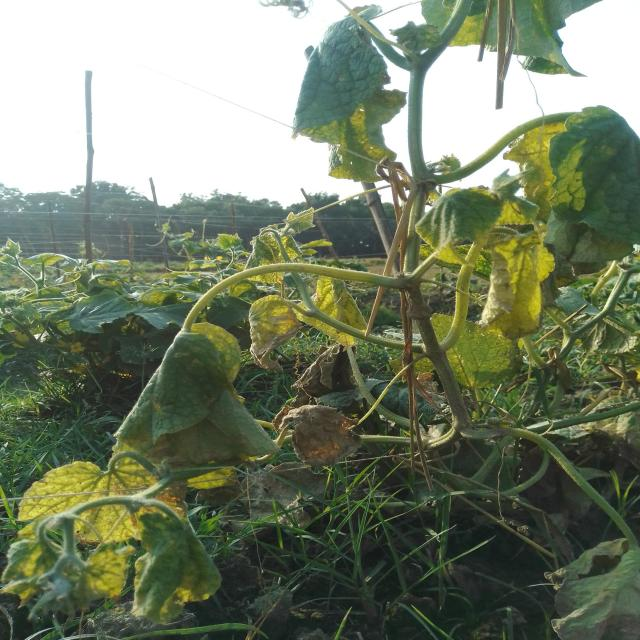cucumber_bacterial: (122, 298, 276, 509), (518, 105, 640, 276), (26, 453, 111, 629), (133, 488, 220, 640), (262, 392, 382, 482), (252, 278, 380, 358), (484, 235, 552, 346), (424, 186, 503, 278)
